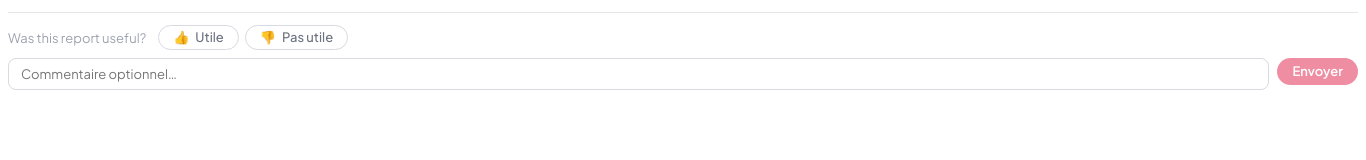
FeedbackBar -- SDK path (Story 9.10) › isError tool result → designed error state (tool-level failure)
Click the button with test id "feedback-thumbs-up".
click(198, 38)  # box x1=158 y1=25 x2=239 y2=50
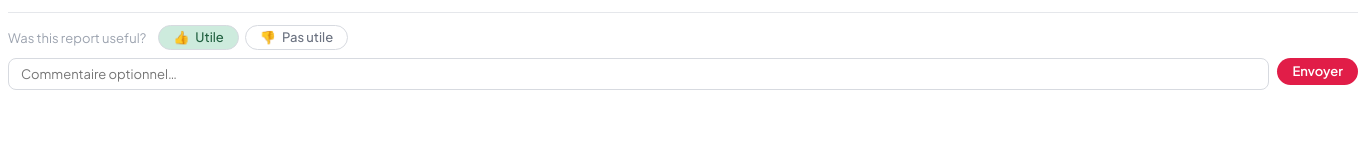
Click the button with test id "feedback-submit".
click(1318, 72)  # box x1=1277 y1=58 x2=1358 y2=85
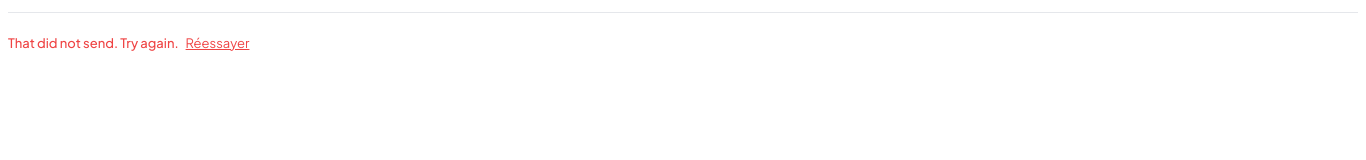
Now the element with test id "feedback-error" is shown, box x1=8 y1=12 x2=1358 y2=61
